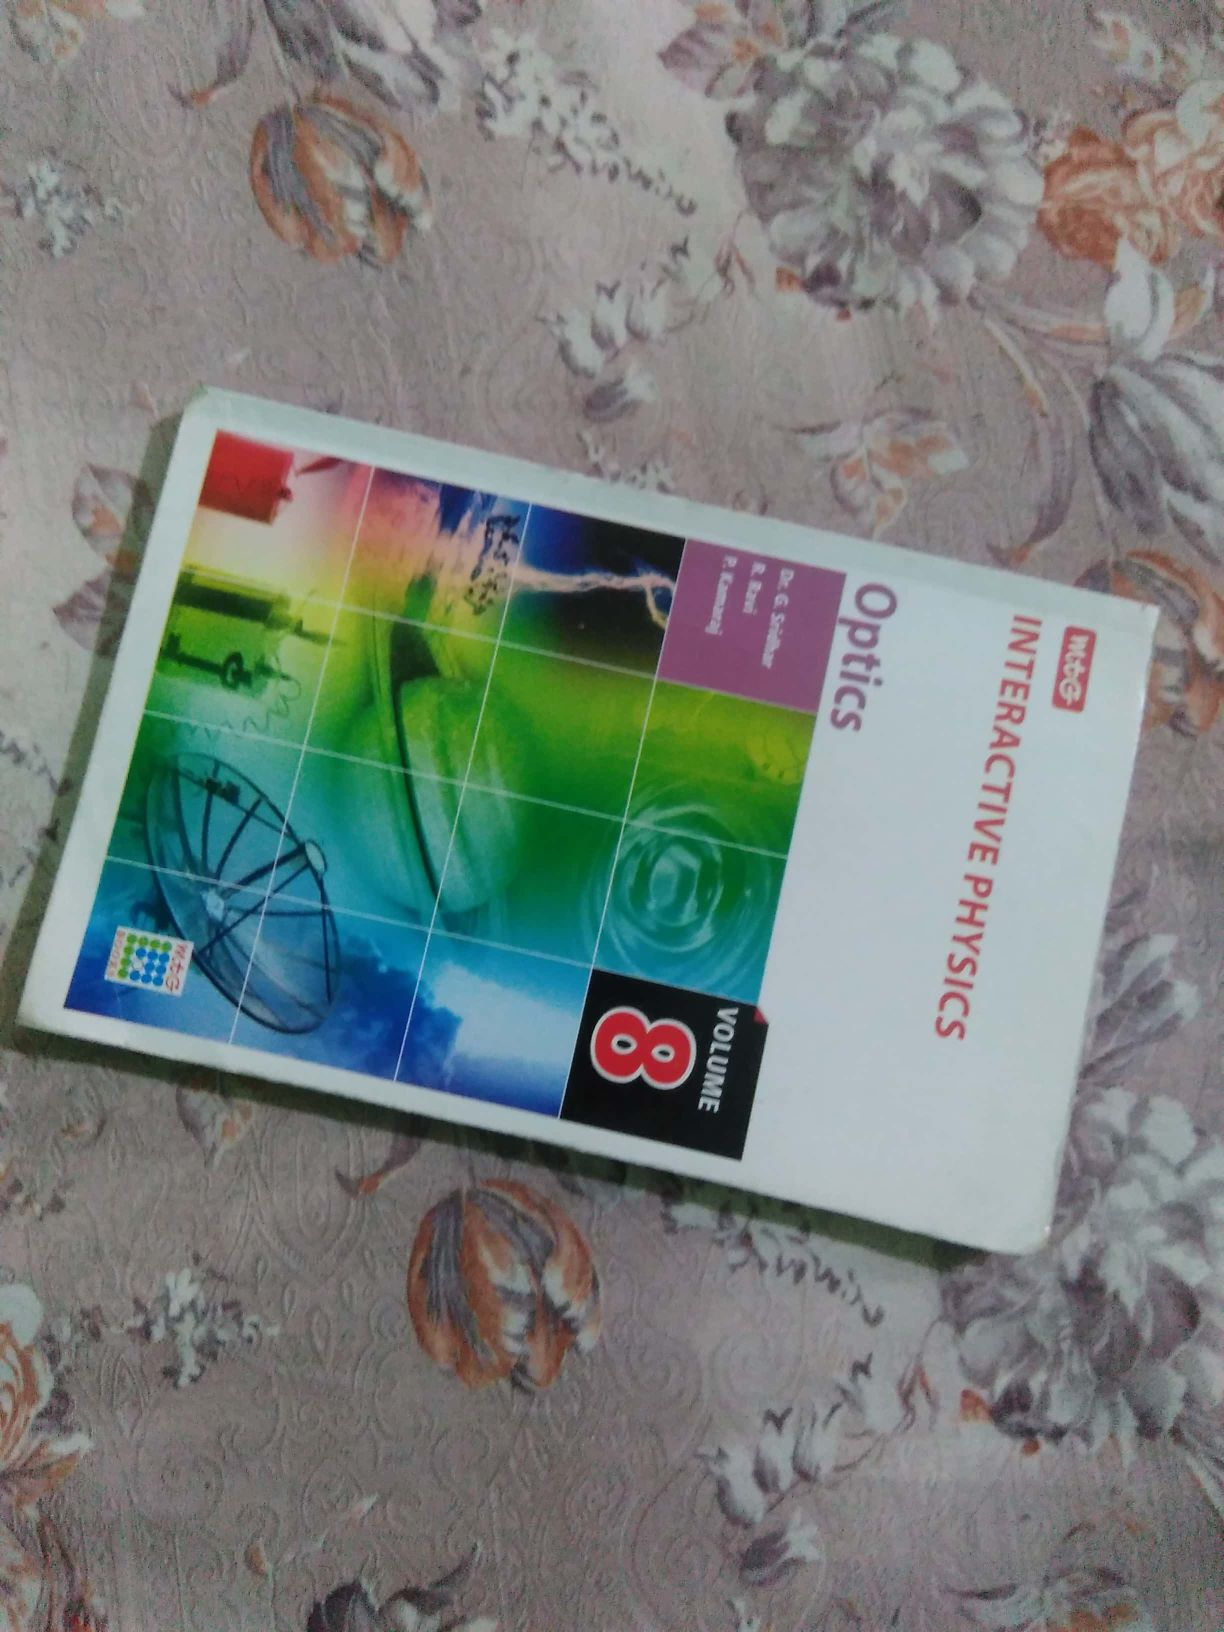optics: (19, 410, 1166, 1298)
